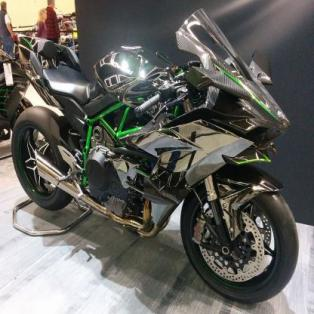Motocicleta: (10, 13, 307, 303)
